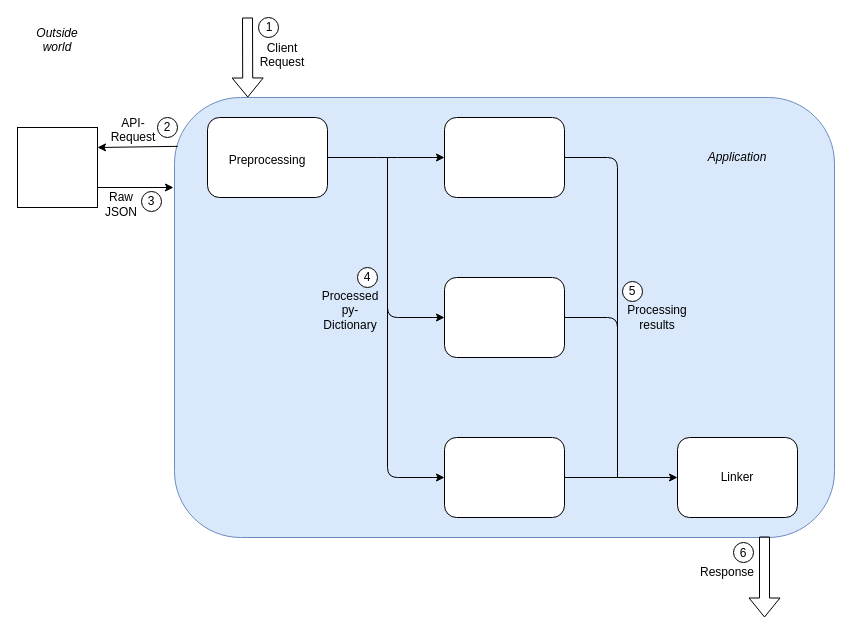
Some shapes in this 852 by 635 pixel diagram are drawn without their labels. The centre of each missing label's shape, as x and y in pixels:
API: point (57, 167)
Processing A: point (504, 157)
Processing B: point (504, 317)
Processing C: point (504, 477)
